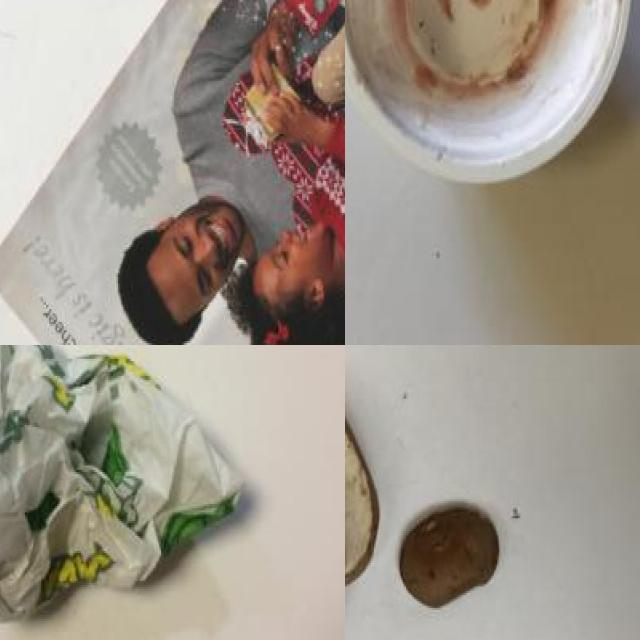compost: (345, 380, 527, 640)
paper: (1, 0, 345, 345)
trash: (0, 345, 271, 636), (345, 0, 640, 207)
